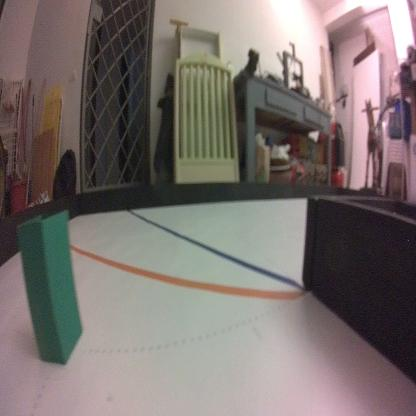green: (15, 209, 85, 368)
